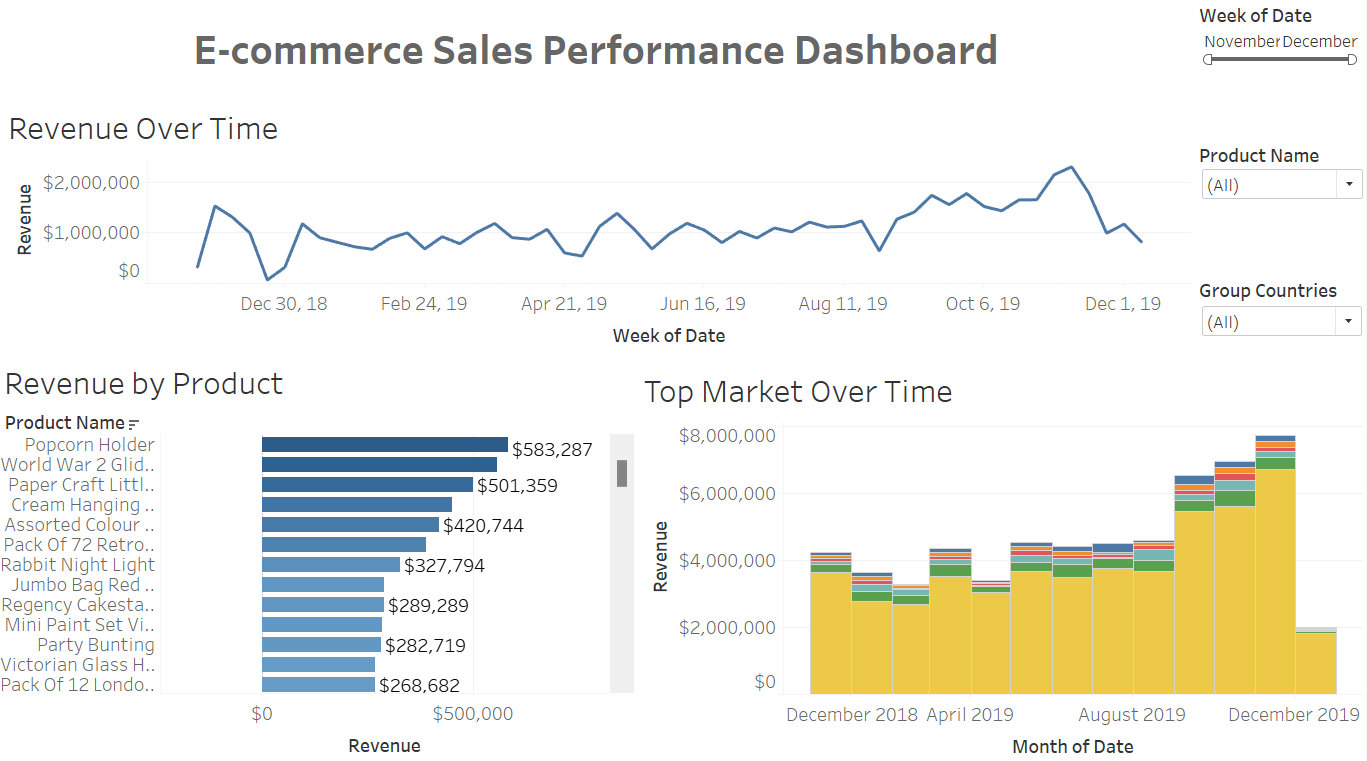

The dashboard page shown, as its layout file describes it:
{"tool":"tableau","page":{"name":"Dashboard 1","canvas":[1366,768],"ordinal":0},"visuals":[{"type":"filter","title":"Revenue Over Time","param":"[federated.1y341zo1xotgdr15itwkk0mgktvq].[twk:Date:qk]","box":[1195,0,170,115]},{"type":"worksheet","title":"Revenue Over Time","mark":"Automatic","rows":["Calculation_1461136604490444800"],"cols":["Date"],"box":[0,100,1195,260]},{"type":"filter","title":"Revenue by Product","param":"[federated.1y341zo1xotgdr15itwkk0mgktvq].[none:ProductName:nk]","box":[1199,144,167,59]},{"type":"filter","title":"Top Market Over Time","param":"[federated.1y341zo1xotgdr15itwkk0mgktvq].[Group Countries]","box":[1199,279,166,71]},{"type":"worksheet","title":"Revenue by Product","mark":"Automatic","rows":["ProductName"],"cols":["Calculation_1461136604490444800"],"box":[0,375,634,391]},{"type":"worksheet","title":"Top Market Over Time","mark":"Bar","rows":["Calculation_1461136604490444800"],"cols":["Date"],"box":[663,381,700,386]}]}

Visuals, with their boxes in screenshot pixels (x1, y1, x2, y2), scaled from the page's 1366x768 canvas onto the 1367x761 screenshot:
"Revenue Over Time" filter: rect(1196, 0, 1366, 114)
"Revenue Over Time" worksheet: rect(0, 99, 1196, 357)
"Revenue by Product" filter: rect(1200, 143, 1366, 201)
"Top Market Over Time" filter: rect(1200, 276, 1366, 347)
"Revenue by Product" worksheet: rect(0, 372, 634, 759)
"Top Market Over Time" worksheet (Bar marks): rect(663, 378, 1364, 760)
